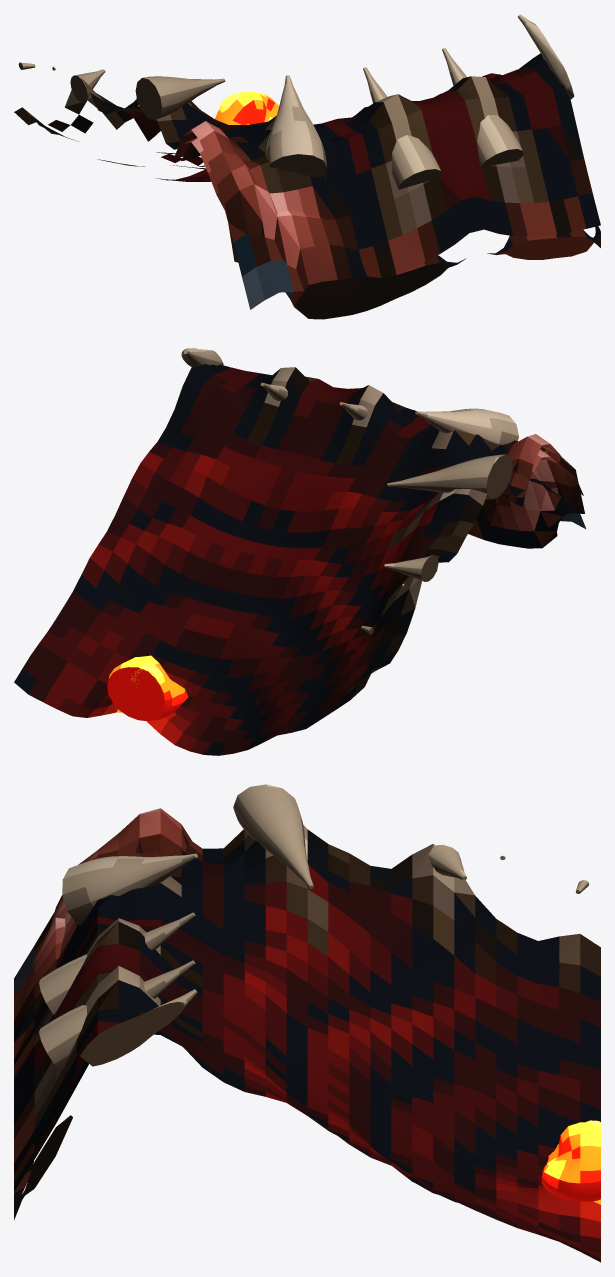
The model's file is gyges_maw_271.glb.
The picture shows the model from 3 angles, top to bottom: view 1: azimuth 30°, elevation 25°; view 2: azimuth 150°, elevation 25°; view 3: azimuth 270°, elevation 25°; orthographic projection. The views are drawn at different scales.
Visible parts, largest first — view 1: gyges_maw_271_body, gyges_maw_271_lips, gyges_maw_271_tooth6, gyges_maw_271_tooth5, gyges_maw_271_tooth7, gyges_maw_271_tooth7_m, gyges_maw_271_fireball, gyges_maw_271_tooth6_m, gyges_maw_271_tooth4; view 2: gyges_maw_271_body, gyges_maw_271_lips, gyges_maw_271_fireball, gyges_maw_271_tooth5, gyges_maw_271_tooth6, gyges_maw_271_tooth4, gyges_maw_271_tooth6_m; view 3: gyges_maw_271_body, gyges_maw_271_lips, gyges_maw_271_tooth6, gyges_maw_271_tooth5, gyges_maw_271_fireball, gyges_maw_271_tooth6_m, gyges_maw_271_tooth7_m, gyges_maw_271_tooth7, gyges_maw_271_tooth4.
Boxes of the visible parts, <box> form: gyges_maw_271_body: <box>14,53,600,309</box>; gyges_maw_271_lips: <box>174,121,600,319</box>; gyges_maw_271_tooth6: <box>265,75,326,177</box>; gyges_maw_271_tooth5: <box>135,76,225,120</box>; gyges_maw_271_tooth7: <box>363,67,441,189</box>; gyges_maw_271_tooth7_m: <box>442,48,522,166</box>; gyges_maw_271_fireball: <box>215,92,279,124</box>; gyges_maw_271_tooth6_m: <box>518,14,574,99</box>; gyges_maw_271_tooth4: <box>70,69,105,102</box>; gyges_maw_271_body: <box>14,363,585,755</box>; gyges_maw_271_lips: <box>468,434,584,548</box>; gyges_maw_271_fireball: <box>107,655,188,721</box>; gyges_maw_271_tooth5: <box>387,454,512,499</box>; gyges_maw_271_tooth6: <box>415,408,518,444</box>; gyges_maw_271_tooth4: <box>384,555,438,581</box>; gyges_maw_271_tooth6_m: <box>181,348,223,367</box>; gyges_maw_271_body: <box>14,824,600,1262</box>; gyges_maw_271_lips: <box>14,808,192,1219</box>; gyges_maw_271_tooth6: <box>62,853,197,924</box>; gyges_maw_271_tooth5: <box>233,784,313,888</box>; gyges_maw_271_fireball: <box>541,1122,600,1201</box>; gyges_maw_271_tooth6_m: <box>80,989,197,1066</box>; gyges_maw_271_tooth7_m: <box>39,960,195,1069</box>; gyges_maw_271_tooth7: <box>39,912,195,1015</box>; gyges_maw_271_tooth4: <box>428,844,466,880</box>.
Size of the model in its own units: 23.98 by 15.71 by 27.98.
